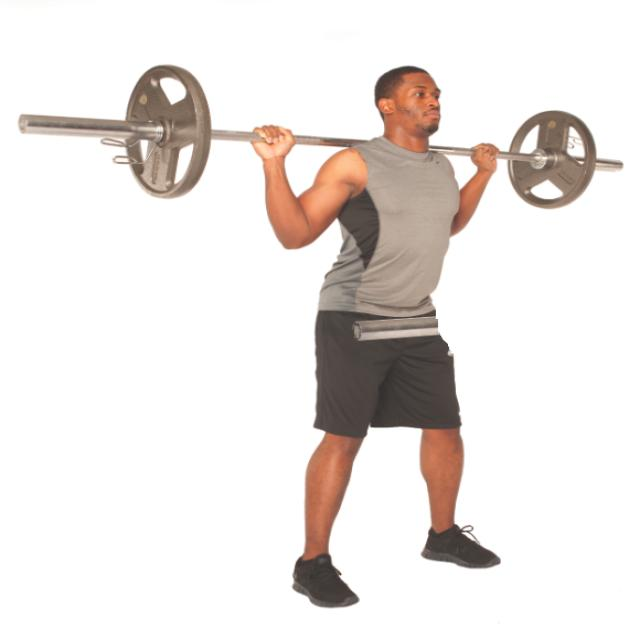squat: (10, 51, 640, 614)
